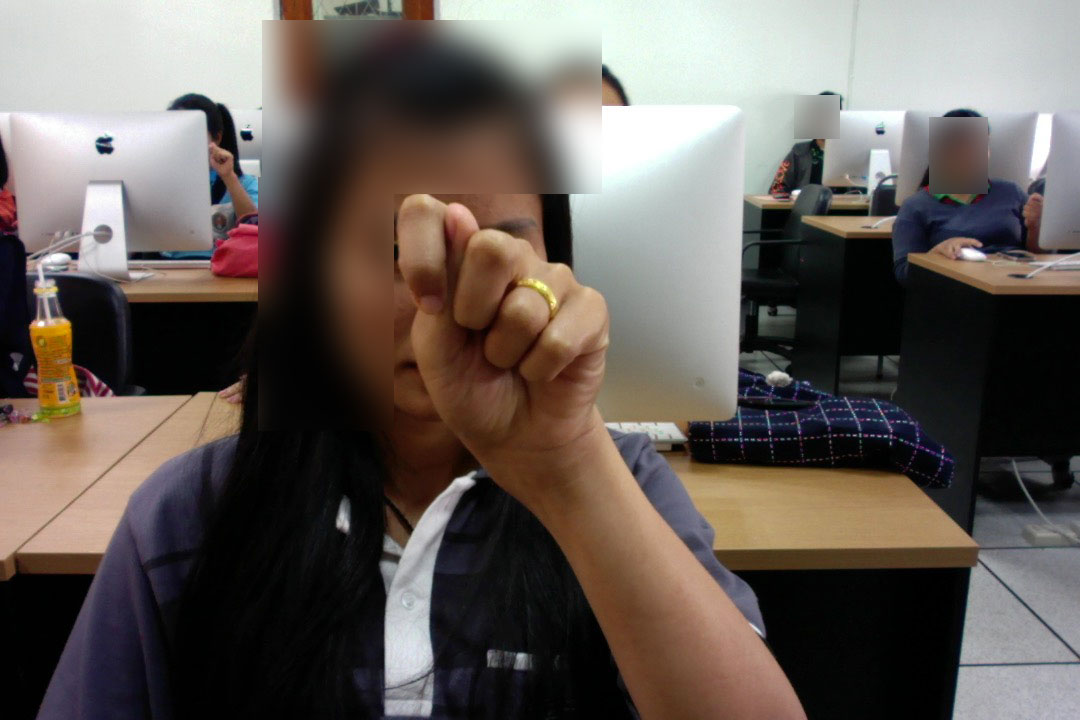tor: (391, 191, 614, 484)
